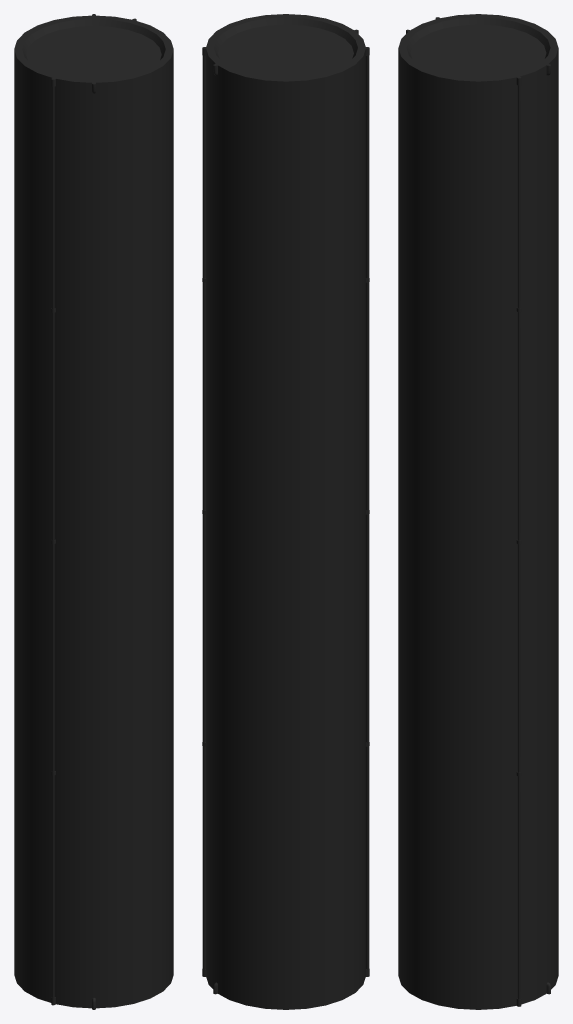
The model's file is TLV_1_LFO_1.obj.
The picture shows the model from 3 angles, left to right: view 1: azimuth 30°, elevation 25°; view 2: azimuth 150°, elevation 25°; view 3: azimuth 270°, elevation 25°; orthographic projection.
Parts seen in each view (by area): view 1: TLV_1_LFO_1; view 2: TLV_1_LFO_1; view 3: TLV_1_LFO_1.
Boxes of the visible parts, left/top/right/bottom form: TLV_1_LFO_1: left=14, top=14, right=173, bottom=1009; TLV_1_LFO_1: left=202, top=14, right=369, bottom=1009; TLV_1_LFO_1: left=398, top=14, right=558, bottom=1009.
Size of the model in its own units: 1.25 by 8 by 1.25.
